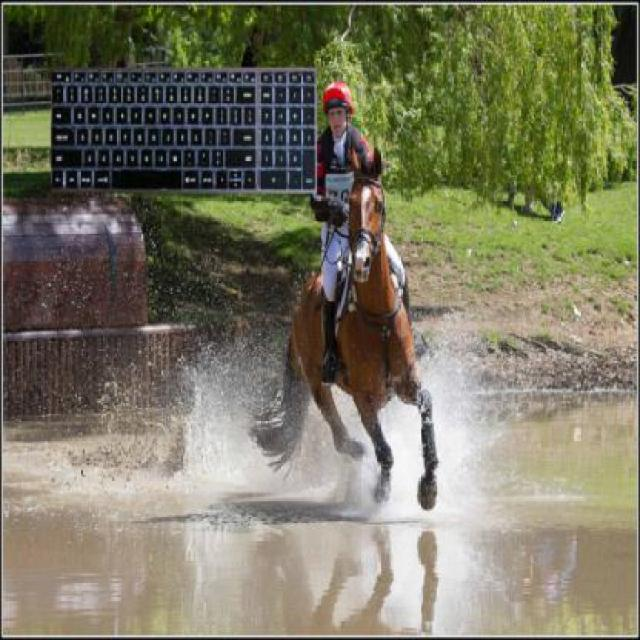keyboard: (58, 62, 320, 207)
